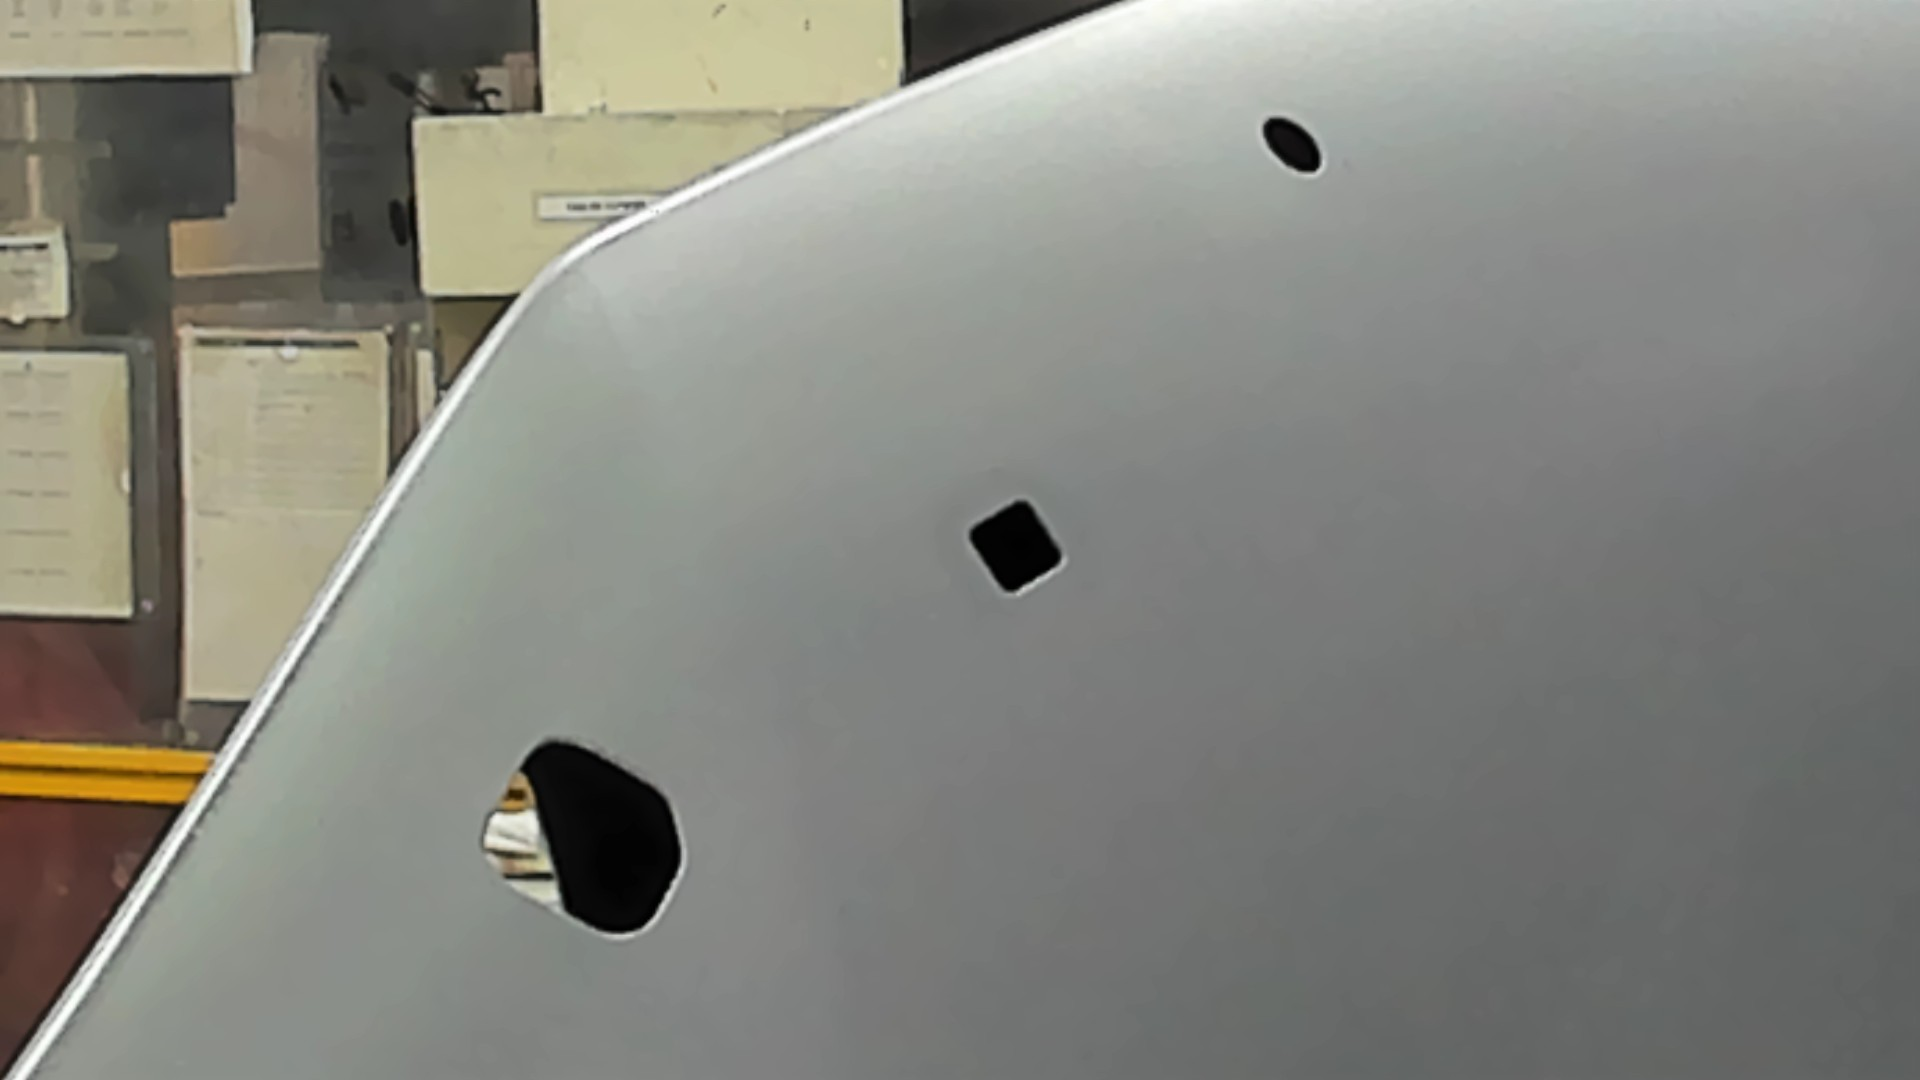chico: (1259, 109, 1329, 182)
grande: (477, 733, 694, 949)
mediano: (964, 495, 1069, 607)
